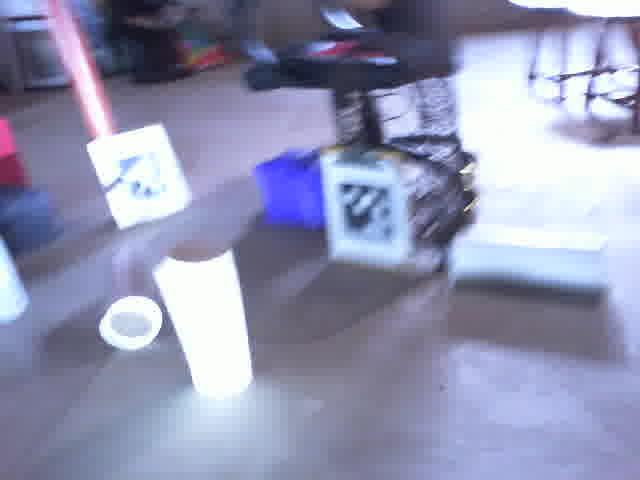coral: (150, 226, 256, 409), (437, 224, 613, 296), (89, 245, 160, 357)
